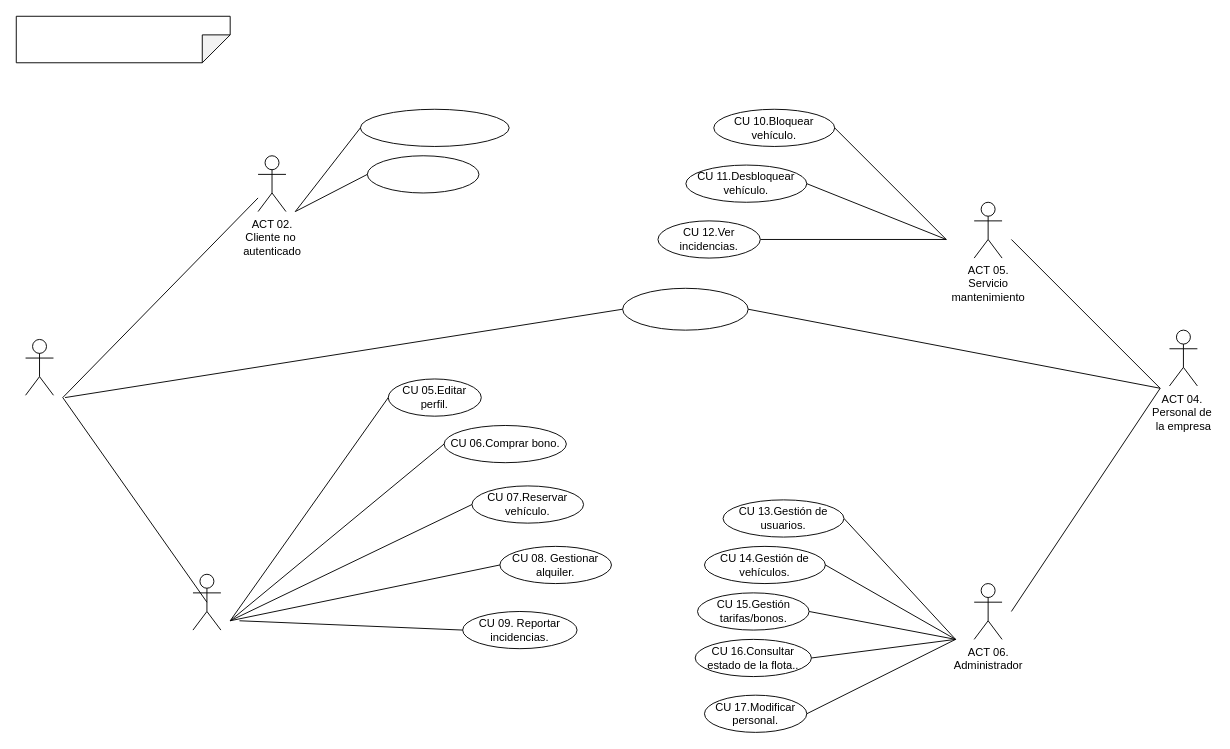
Image size: 1230x749. Some labels were removed from this diagram. The centre of each missing label's shape, as x and y in pixels:
"ACT 01. Usuario" goes at point 39,367.
"ACT 03. Cliente autenticado" goes at point 206,601.
"CU 01. Registrar en la aplicación." goes at point 434,127.
"CU 02.Iniciar sesión." goes at point 422,174.
"CU 03.Ver vehículos disponibles." goes at point 685,308.
"Diagrama de Casos de Uso Inicial Completo (Grueso)" goes at point 122,39.
